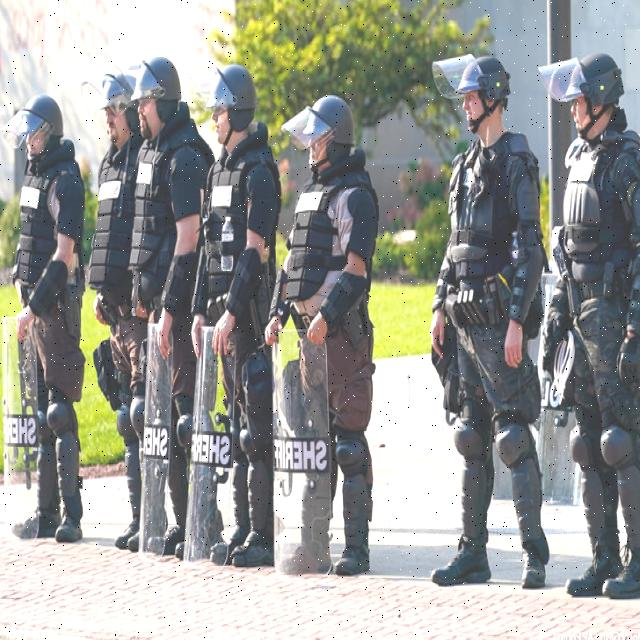police: (425, 26, 560, 631), (74, 45, 206, 605), (266, 67, 392, 572), (547, 28, 640, 631), (189, 52, 284, 584), (0, 76, 87, 560)
